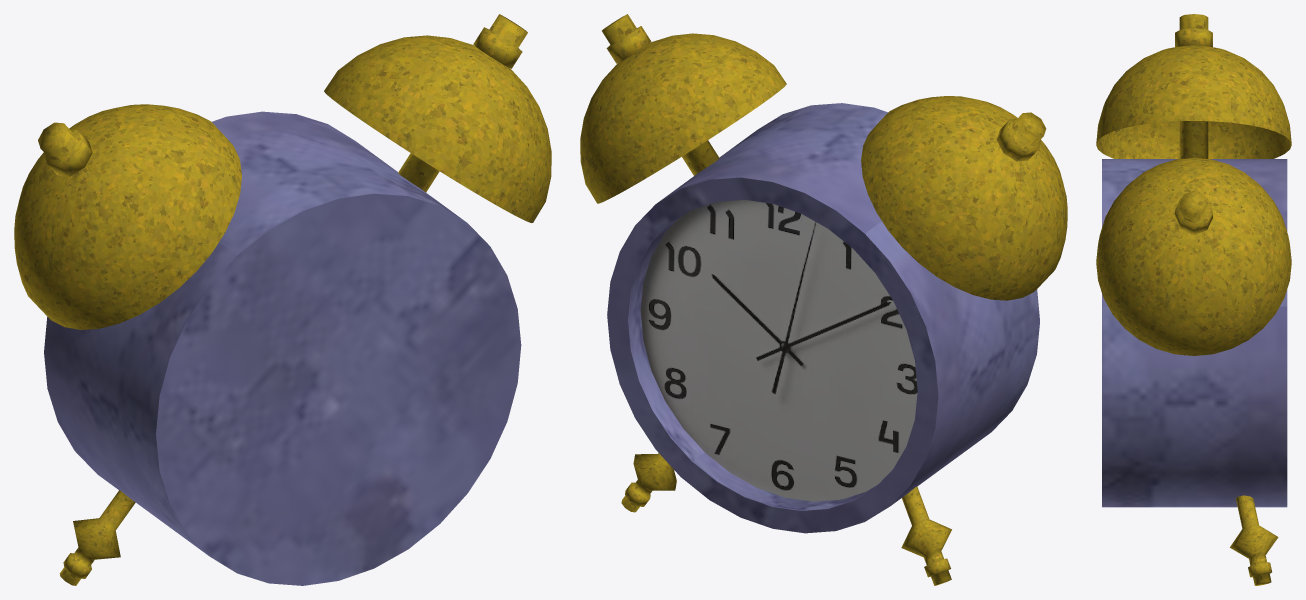
Rendered from clock.fbx.
3 renders of one model, left to right at view 1: azimuth 30°, elevation 25°; view 2: azimuth 150°, elevation 25°; view 3: azimuth 270°, elevation 25°, orthographic. The views are drawn at different scales.
Visible parts, largest first — view 1: Cube.006; view 2: Cube.006; view 3: Cube.006.
Boxes of the visible parts, x1,y1,x2,y2 form: Cube.006: (14,14,551,585); Cube.006: (580,14,1067,585); Cube.006: (1096,14,1291,585).
Bounding box in the file's own units: 277 × 263 × 112.
Materials: 1 (1 with a texture image).
